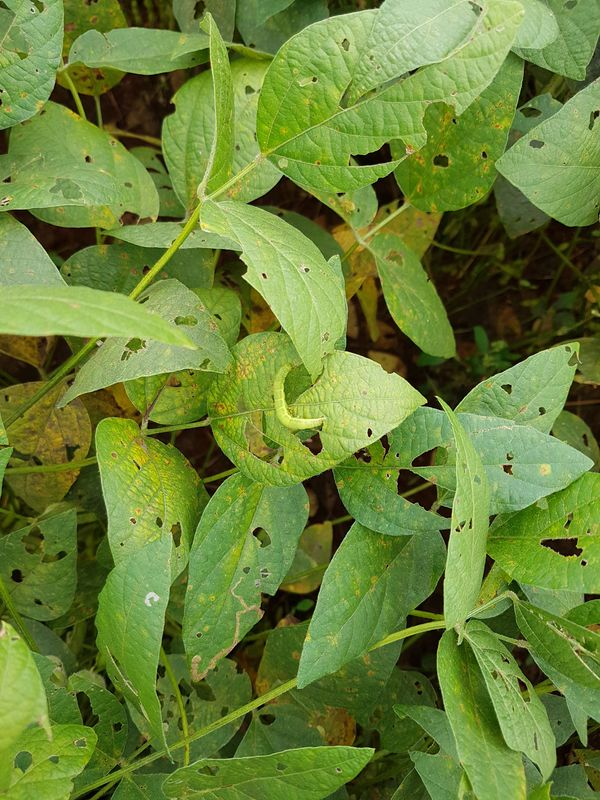Anticarsia_gemmatalis: (269, 359, 330, 436)
